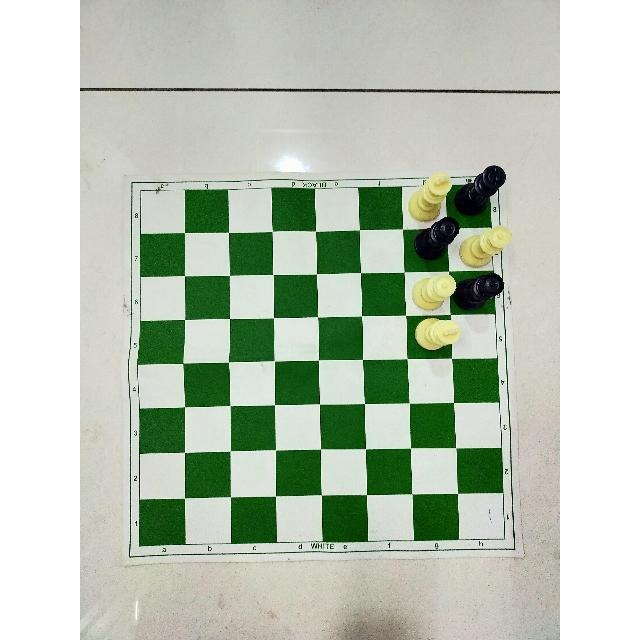black-king: (455, 164, 506, 216)
black-queen: (412, 216, 459, 262), (453, 271, 505, 310)
white-king: (408, 172, 452, 220), (414, 316, 461, 353)
white-queen: (459, 222, 511, 268), (408, 274, 459, 311)
